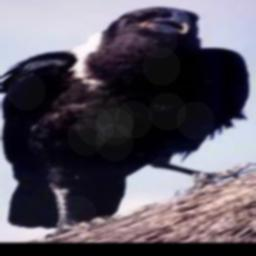Crow: (0, 5, 256, 235)
